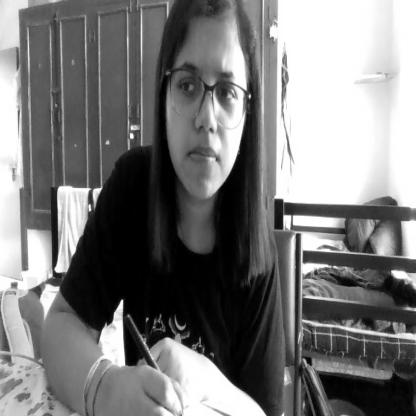Normal: (153, 0, 261, 208)
